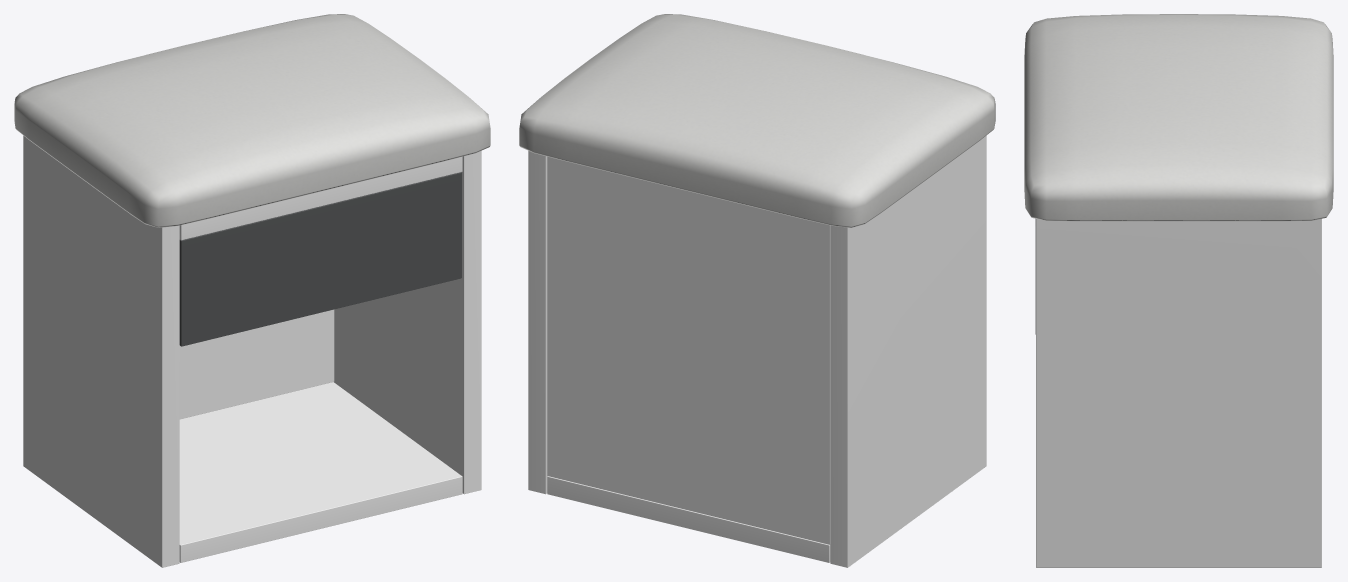
Rendered from chair_56_01.001.fbx.
The picture shows the model from 3 angles, left to right: view 1: azimuth 30°, elevation 25°; view 2: azimuth 150°, elevation 25°; view 3: azimuth 270°, elevation 25°; orthographic projection. The views are drawn at different scales.
Visible parts, largest first — view 1: chair_56_01.001; view 2: chair_56_01.001; view 3: chair_56_01.001.
Part boxes in pixels (x1,y1,x2,y2): chair_56_01.001: (14, 14, 490, 567); chair_56_01.001: (519, 14, 995, 567); chair_56_01.001: (1024, 14, 1333, 567).
Size of the model in its own units: 43.23 by 47.27 by 32.42.
Materials: 1 (1 with a texture image).
